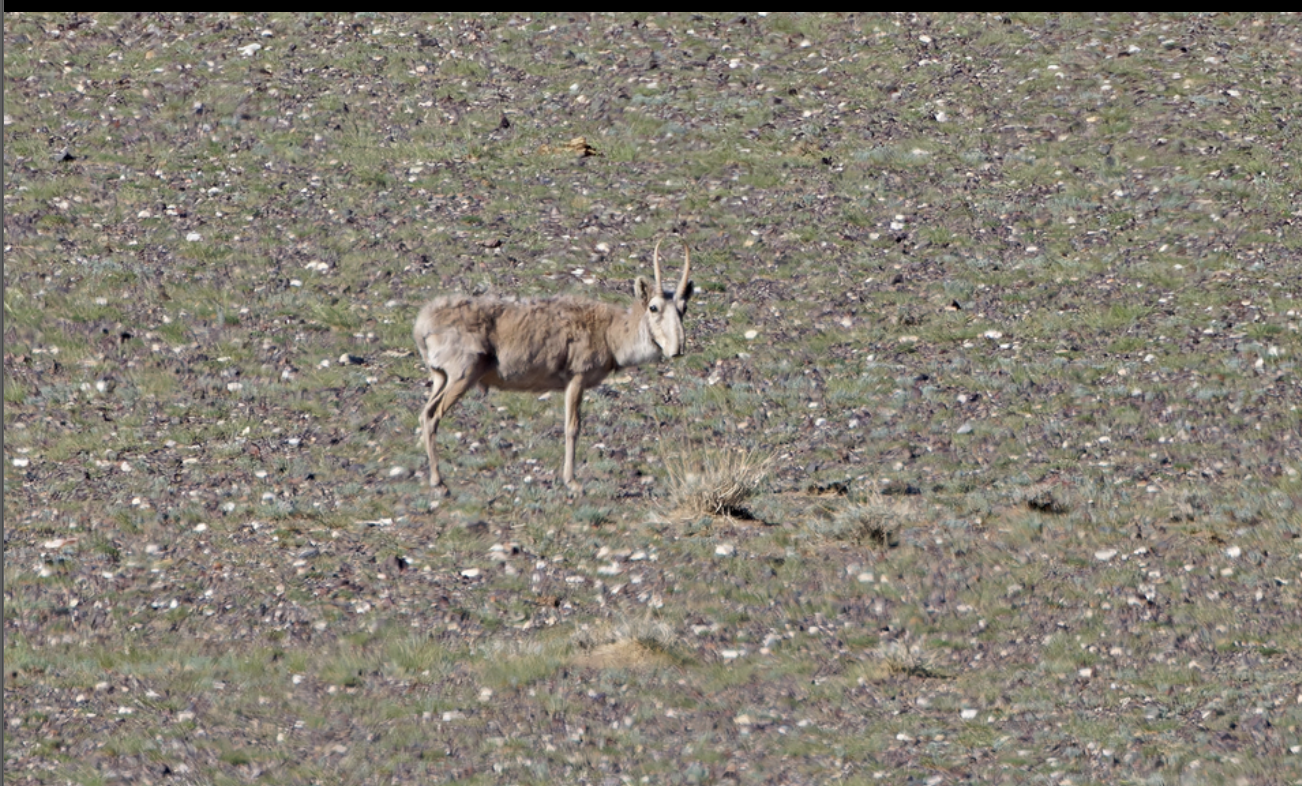saiga: (384, 234, 703, 499)
